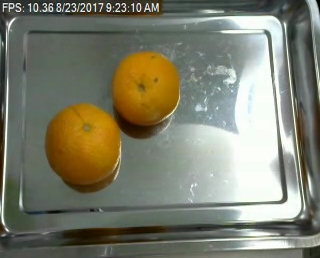Orange: (44, 102, 121, 186), (113, 51, 181, 125)
